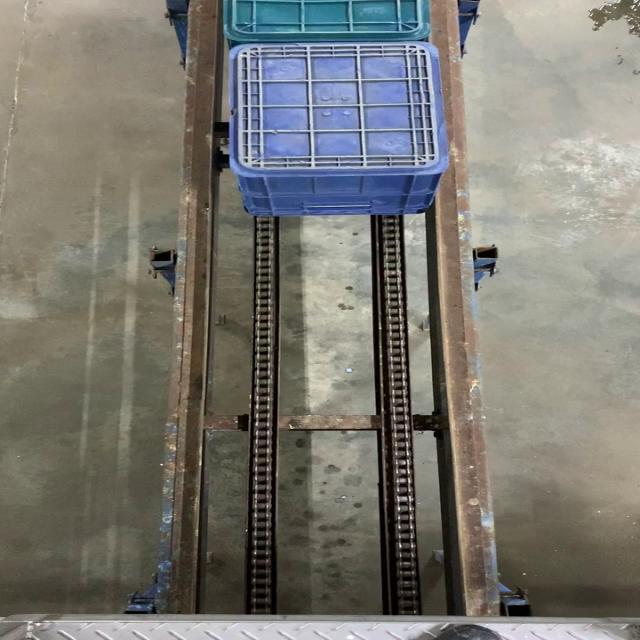Box: (234, 44, 442, 170)
